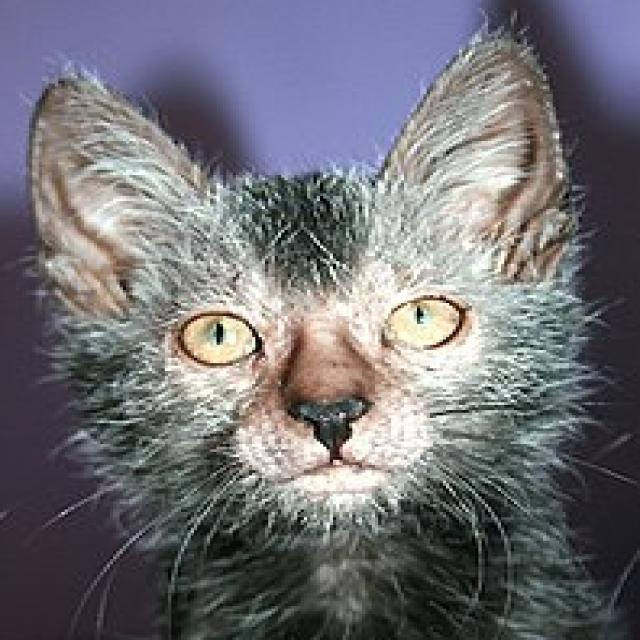Lykoi: (13, 23, 637, 640)
